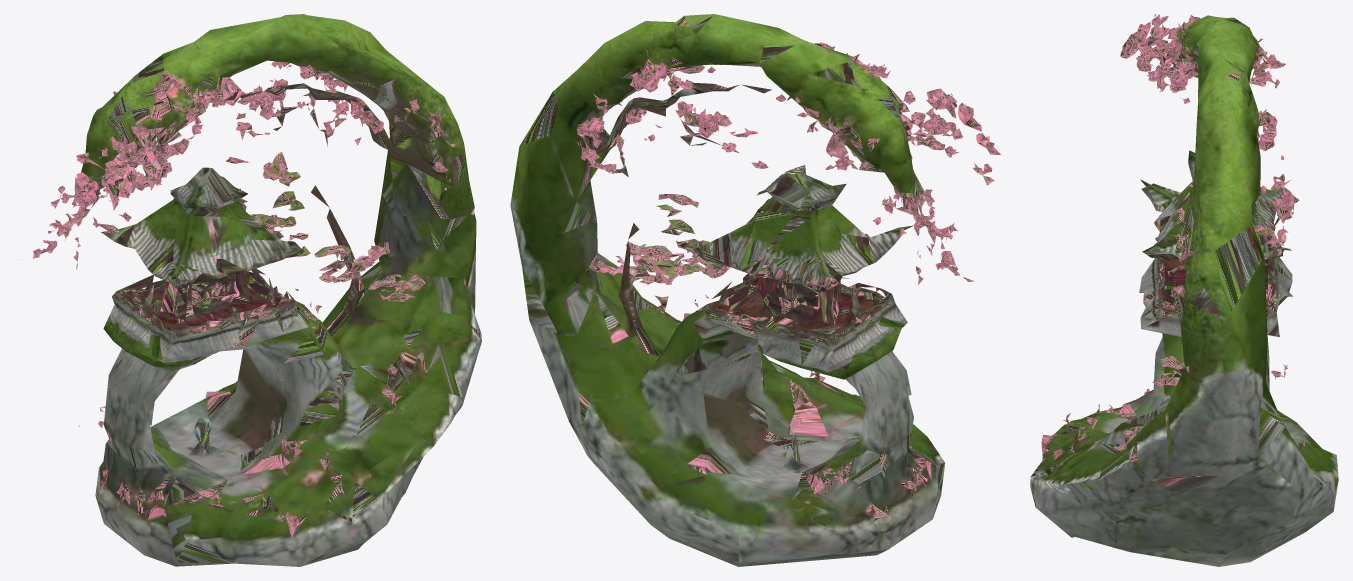
File: bq_moongate.lod1.glb
3 views of the same model, side by side, from view 1: azimuth 30°, elevation 25°; view 2: azimuth 150°, elevation 25°; view 3: azimuth 270°, elevation 25° (orthographic). The views are drawn at different scales.
Bounding box in the file's own units: 1.83 × 1.89 × 1.09.
1 material, 1 textured.
